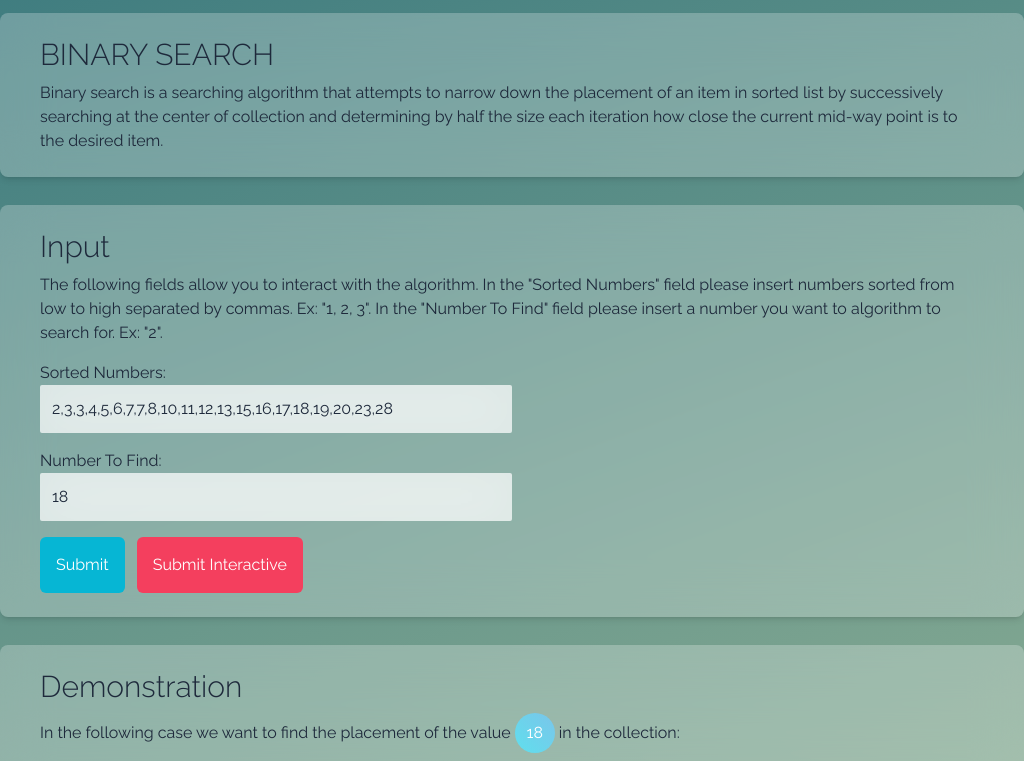
it shows the expected conclusion in 'normal' immediate mode when data is submitted
The width and height of the screenshot is (1024, 761).
Replace the text in the field labelled "Sorted Numbers:" with "1,2,3" at (276, 409), box [40,385,512,433]
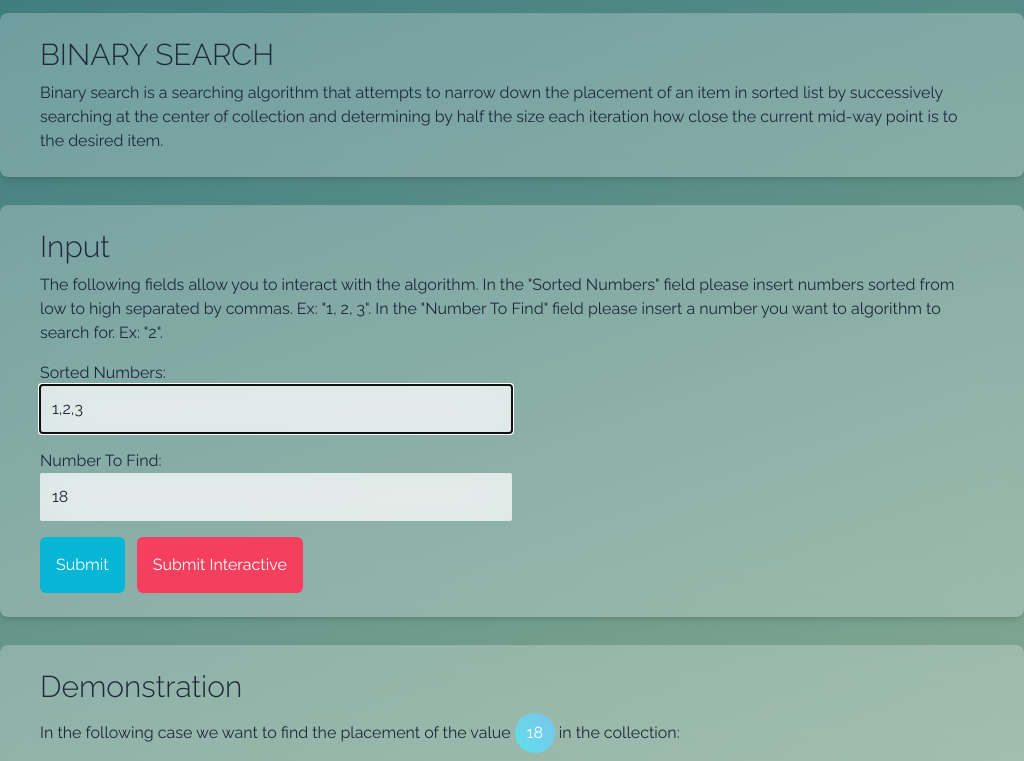
Replace the text in the number field labelled "Number To Find:" with "2" at (276, 497), box [40,473,512,521]
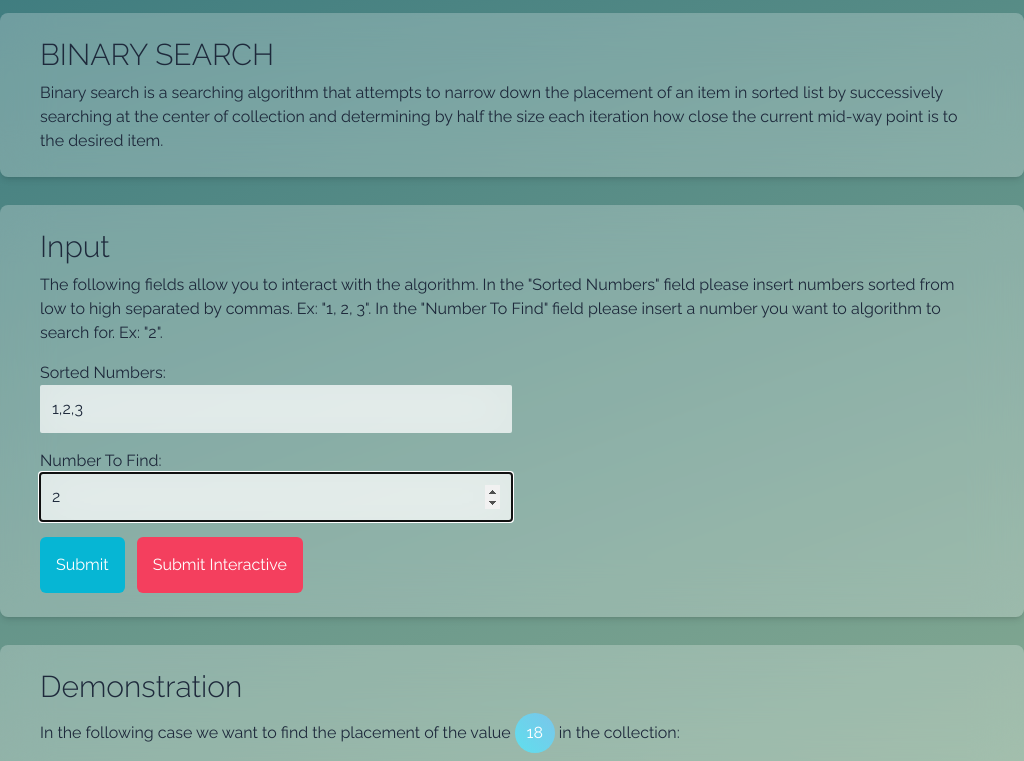
Click the button "Submit" at (82, 565), box [40,537,125,593]
(page scrolled)
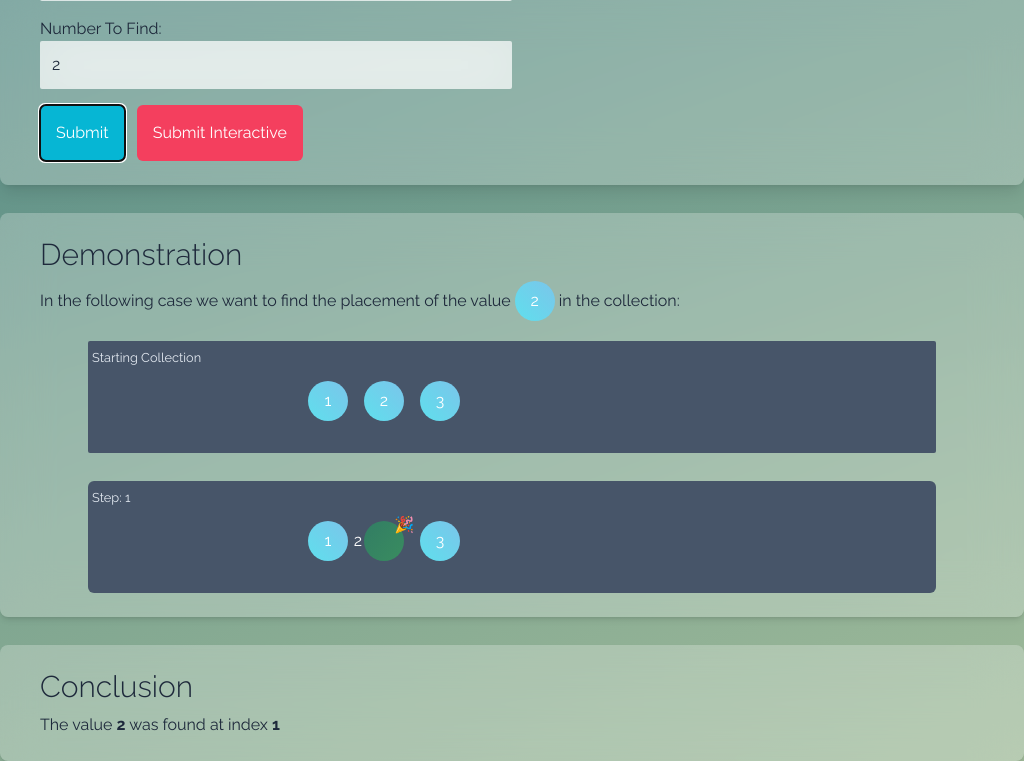
Check: the element with test id "value-found-conclusion" reads "The value 2 was found at index 1", box [40,715,280,734]
